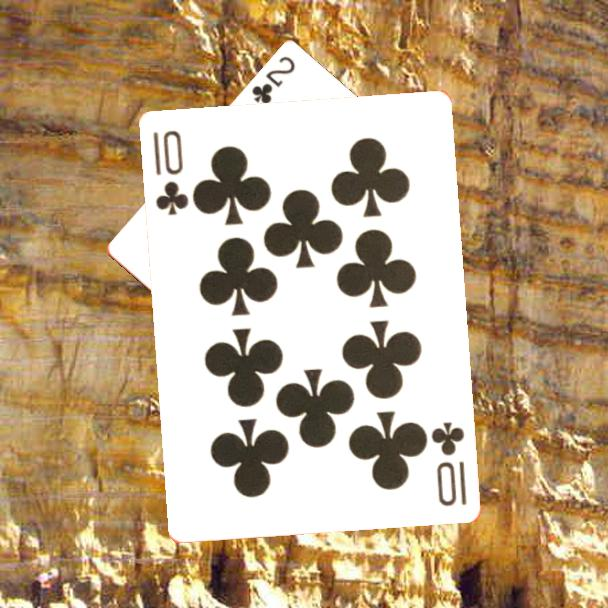c02: (248, 53, 298, 108)
c10: (150, 127, 192, 219), (429, 418, 470, 510)
